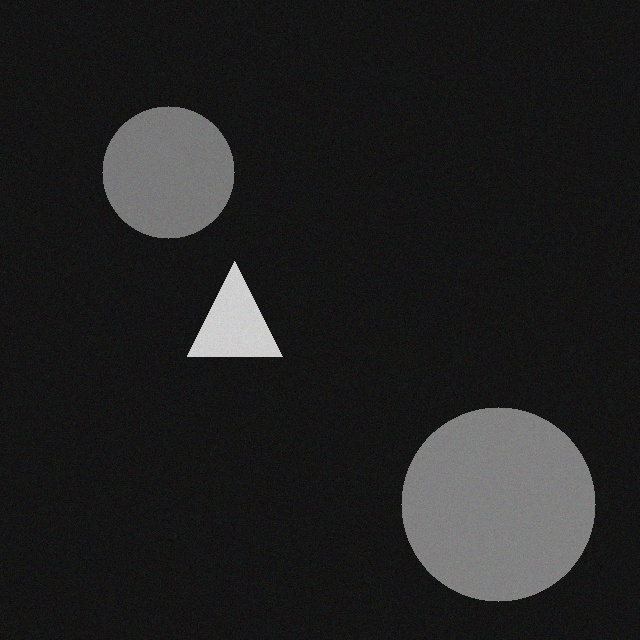circle: (414, 404, 608, 598), (115, 103, 247, 235)
triangle: (200, 258, 295, 353)
